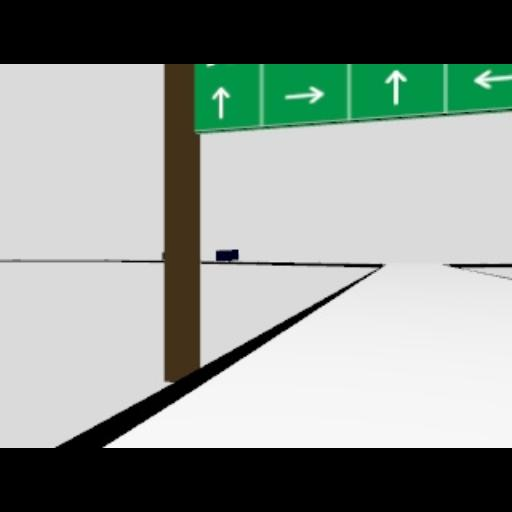Left: (472, 69, 510, 89)
Right: (280, 86, 328, 104)
Straight: (210, 86, 234, 120), (386, 70, 408, 106)
